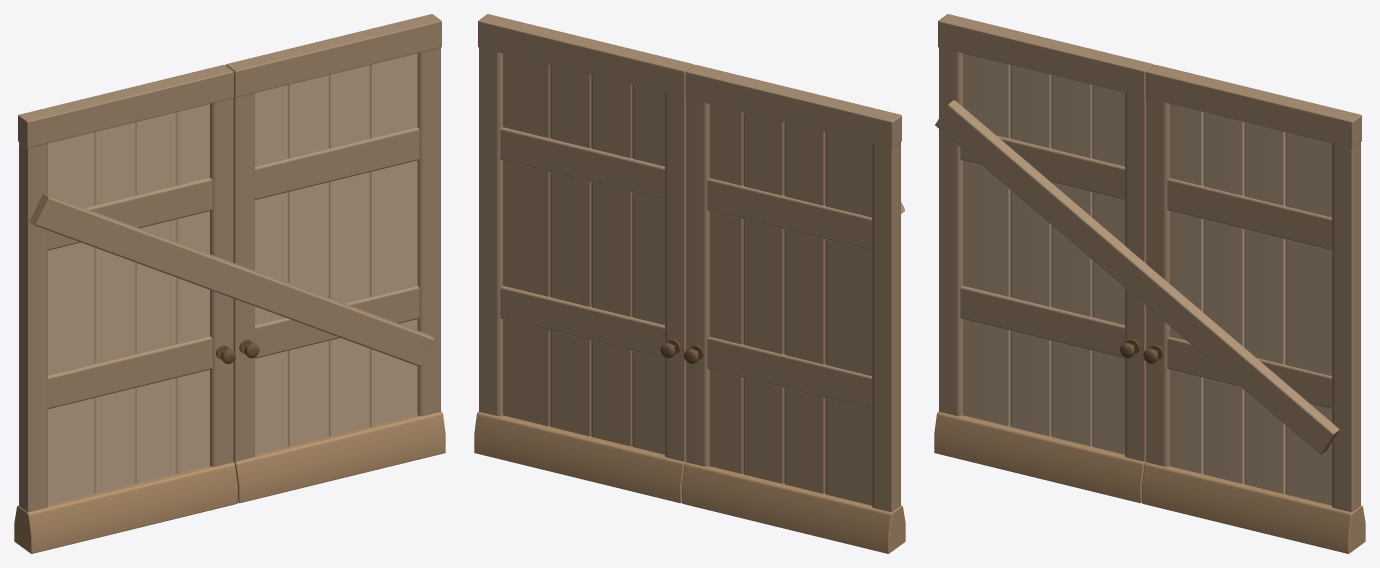
File: SM_Door_Double_Close_01.fbx
The picture shows the model from 3 angles, left to right: view 1: azimuth 30°, elevation 25°; view 2: azimuth 150°, elevation 25°; view 3: azimuth 330°, elevation 25°; orthographic projection.
Visible parts, largest first — view 1: SM_Door_R.003, SM_Door_R.002, SM_Door_R.004; view 2: SM_Door_R.003, SM_Door_R.002; view 3: SM_Door_R.002, SM_Door_R.003, SM_Door_R.004.
Part boxes in pixels (x1=…): SM_Door_R.003: x1=14, y1=64, x2=237, y2=553; SM_Door_R.002: x1=225, y1=14, x2=445, y2=503; SM_Door_R.004: x1=29, y1=193, x2=434, y2=366; SM_Door_R.003: x1=682, y1=64, x2=905, y2=553; SM_Door_R.002: x1=474, y1=14, x2=694, y2=503; SM_Door_R.002: x1=1142, y1=64, x2=1365, y2=553; SM_Door_R.003: x1=934, y1=14, x2=1154, y2=503; SM_Door_R.004: x1=935, y1=100, x2=1339, y2=454.
Size of the model in its own units: 301 by 298 by 31.37.
